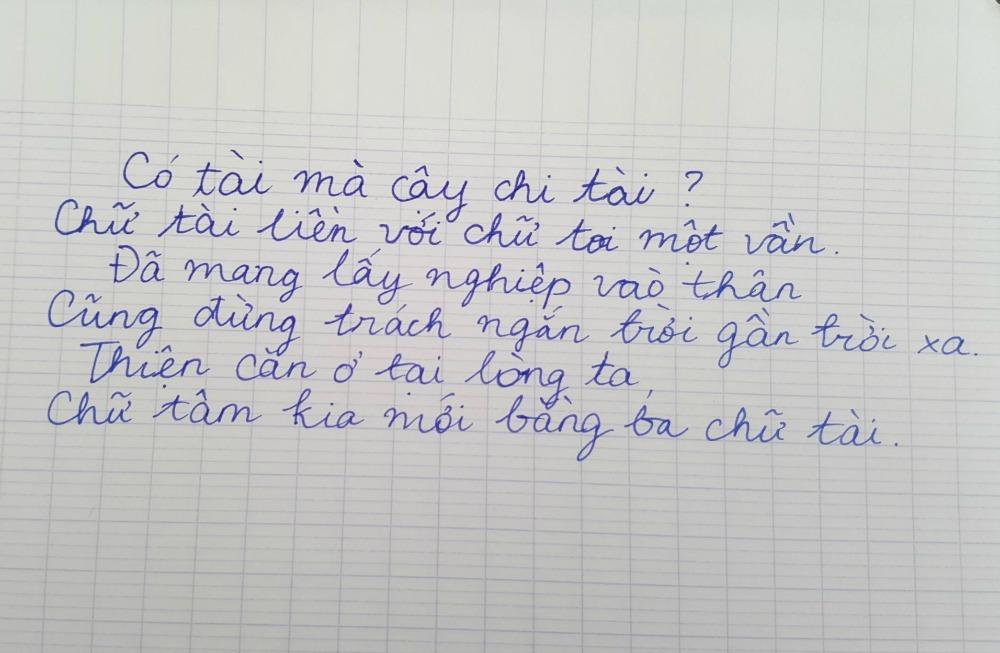text: (46, 287, 982, 372), (43, 386, 904, 465), (51, 196, 844, 265), (105, 241, 805, 313), (115, 145, 706, 223), (75, 338, 655, 411)
